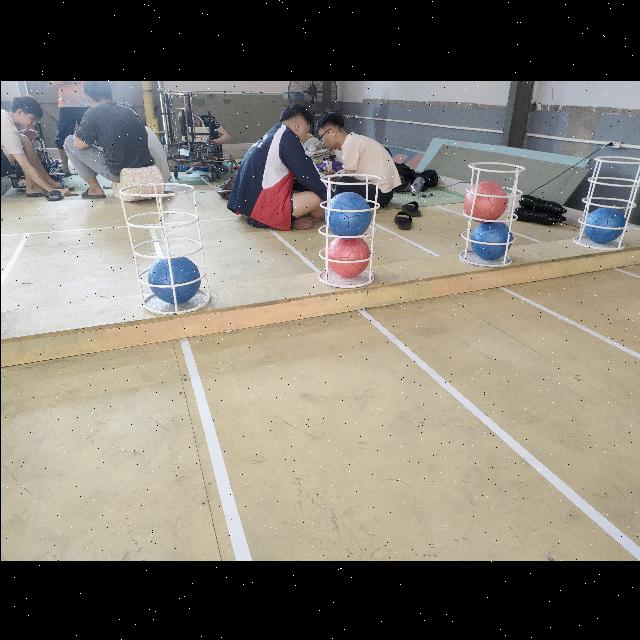B: (147, 254, 199, 302), (324, 192, 370, 236), (468, 220, 512, 260), (584, 207, 624, 243)
R: (326, 233, 370, 277), (461, 180, 507, 222)
